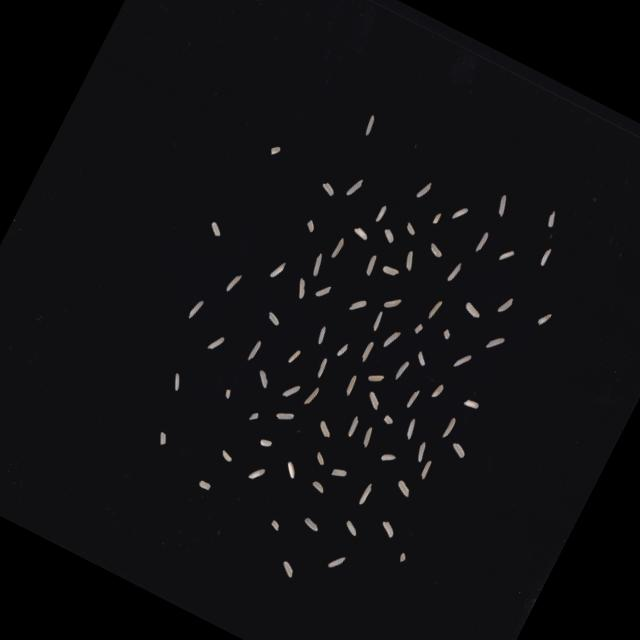Not: (344, 176, 364, 200), (308, 252, 326, 277), (445, 260, 463, 284), (492, 194, 510, 218), (376, 519, 397, 539), (392, 478, 413, 498), (484, 332, 504, 353), (461, 300, 482, 320), (347, 295, 367, 316), (280, 380, 300, 401), (252, 368, 272, 389), (425, 298, 442, 322), (302, 384, 319, 408), (452, 350, 471, 371), (291, 278, 309, 300), (224, 272, 242, 294), (268, 258, 286, 280), (414, 178, 432, 200), (186, 298, 203, 321), (357, 482, 373, 506), (246, 338, 262, 362), (326, 552, 345, 572), (314, 419, 334, 438), (363, 390, 382, 410), (496, 294, 514, 315), (400, 250, 418, 271), (206, 332, 224, 353), (412, 441, 429, 463), (382, 328, 399, 350), (402, 417, 418, 440), (393, 359, 409, 382), (362, 253, 378, 276), (329, 237, 345, 260), (448, 441, 468, 459), (441, 416, 456, 440), (474, 230, 489, 254), (497, 246, 515, 266), (450, 204, 468, 224), (274, 407, 294, 425), (281, 460, 299, 480), (358, 426, 374, 448), (342, 374, 358, 396), (382, 294, 401, 312), (247, 464, 265, 483), (404, 388, 420, 409), (345, 415, 360, 437), (359, 340, 374, 362), (313, 282, 331, 300), (206, 220, 224, 238), (278, 560, 296, 578), (350, 225, 370, 241), (361, 115, 376, 136), (537, 246, 551, 268), (314, 324, 328, 346), (314, 356, 328, 378), (370, 310, 384, 332), (301, 516, 320, 532), (168, 372, 184, 391), (373, 204, 388, 224), (418, 459, 432, 480), (378, 450, 396, 466), (536, 310, 552, 328), (366, 370, 384, 386), (318, 181, 336, 197), (342, 520, 359, 536), (413, 350, 429, 367), (426, 242, 443, 258), (308, 479, 326, 494), (544, 210, 558, 229), (380, 228, 396, 244), (329, 466, 346, 481), (264, 311, 281, 326), (430, 382, 444, 400), (380, 264, 398, 278), (286, 347, 300, 365), (154, 431, 170, 446), (462, 397, 479, 411), (335, 341, 349, 358), (312, 451, 326, 466), (402, 222, 417, 236), (218, 450, 234, 462), (411, 322, 424, 336), (197, 478, 210, 492), (258, 436, 272, 449), (304, 218, 316, 233), (381, 414, 394, 426), (439, 328, 452, 340), (247, 410, 259, 423), (268, 519, 281, 531), (268, 144, 280, 157), (431, 211, 441, 225), (396, 552, 406, 564), (222, 388, 232, 400)
